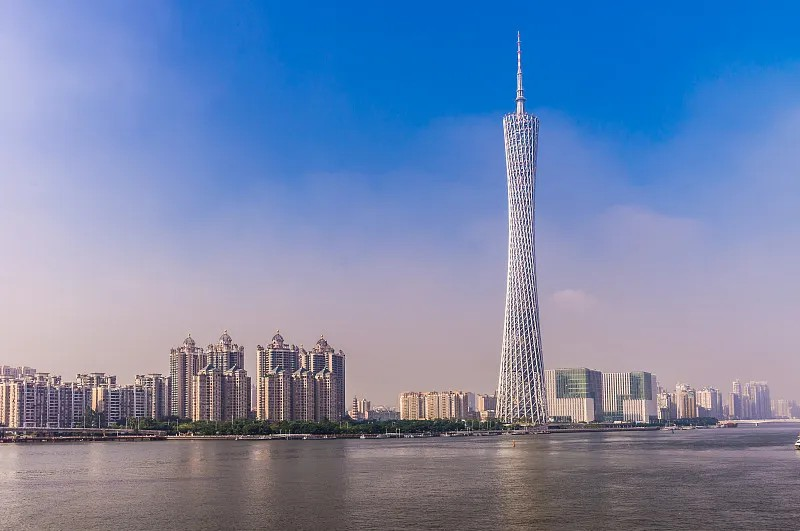Canton: (496, 30, 548, 424)
